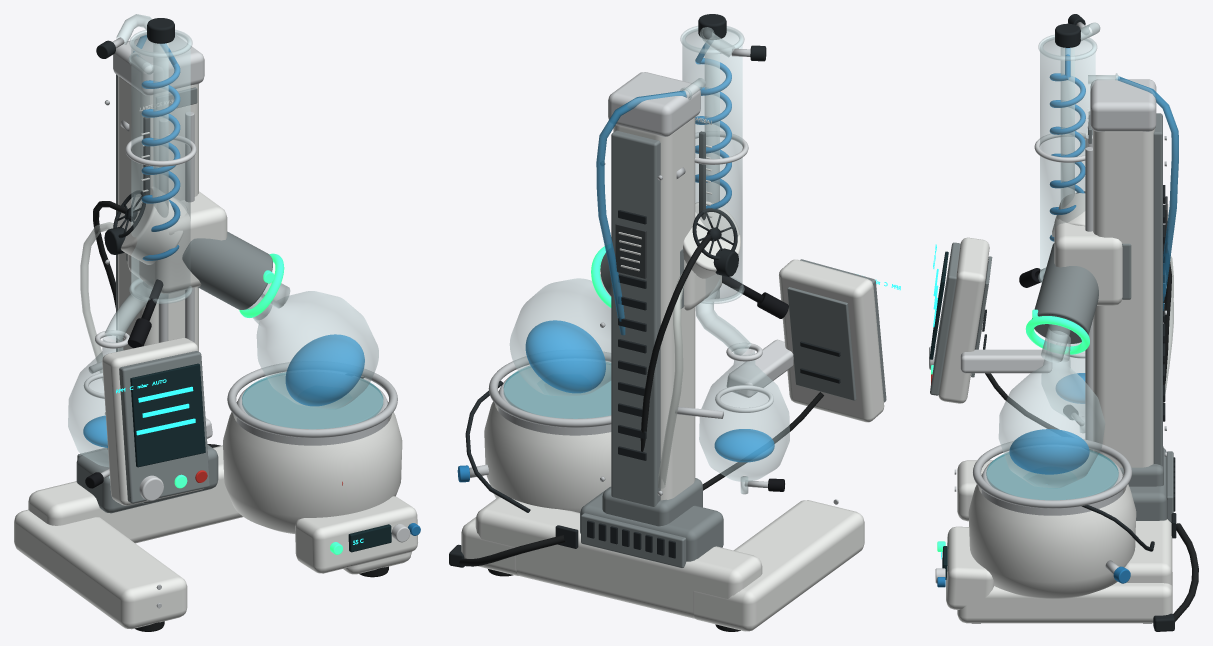
The model's file is rotary-evaporator.glb.
3 renders of one model, left to right at view 1: azimuth 30°, elevation 25°; view 2: azimuth 150°, elevation 25°; view 3: azimuth 270°, elevation 25°, orthographic. The views are drawn at different scales.
Visible parts, largest first — view 1: RotaryEvaporator__Powder_coated_warm_white, RotaryEvaporator__Borosilicate_glass, RotaryEvaporator__Powder_coated_shadow_gray, RotaryEvaporator__Brushed_stainless_steel, RotaryEvaporator__Controller_glass_display, RotaryEvaporator__Satin_anodized_aluminum, RotaryEvaporator__Reference_blue_solvent, RotaryEvaporator__Ground_glass_joint, RotaryEvaporator__Bath_water, RotaryEvaporator__LabSpace_blue_control_accent, RotaryEvaporator__Soft_touch_black_polymer, RotaryEvaporator__Clear_silicone_hose (+4 smaller); view 2: RotaryEvaporator__Powder_coated_warm_white, RotaryEvaporator__Borosilicate_glass, RotaryEvaporator__Powder_coated_shadow_gray, RotaryEvaporator__Soft_touch_black_polymer, RotaryEvaporator__Satin_anodized_aluminum, RotaryEvaporator__Brushed_stainless_steel, RotaryEvaporator__Reference_blue_solvent, RotaryEvaporator__Ground_glass_joint, RotaryEvaporator__Bath_water, RotaryEvaporator__Black_EPDM_rubber, RotaryEvaporator__Translucent_coolant_hose, RotaryEvaporator__LabSpace_blue_control_accent (+3 smaller); view 3: RotaryEvaporator__Powder_coated_warm_white, RotaryEvaporator__Borosilicate_glass, RotaryEvaporator__Powder_coated_shadow_gray, RotaryEvaporator__Brushed_stainless_steel, RotaryEvaporator__Satin_anodized_aluminum, RotaryEvaporator__Bath_water, RotaryEvaporator__Reference_blue_solvent, RotaryEvaporator__Ground_glass_joint, RotaryEvaporator__Soft_touch_black_polymer, RotaryEvaporator__LabSpace_blue_control_accent, RotaryEvaporator__Black_EPDM_rubber, RotaryEvaporator__Translucent_coolant_hose (+4 smaller).
Part boxes in pixels (left/top/right/bottom): RotaryEvaporator__Powder_coated_warm_white: left=14, top=76, right=417, bottom=629; RotaryEvaporator__Borosilicate_glass: left=68, top=29, right=378, bottom=466; RotaryEvaporator__Powder_coated_shadow_gray: left=76, top=74, right=272, bottom=513; RotaryEvaporator__Brushed_stainless_steel: left=88, top=37, right=397, bottom=608; RotaryEvaporator__Controller_glass_display: left=130, top=363, right=391, bottom=552; RotaryEvaporator__Satin_anodized_aluminum: left=83, top=34, right=410, bottom=542; RotaryEvaporator__Reference_blue_solvent: left=83, top=334, right=364, bottom=447; RotaryEvaporator__Ground_glass_joint: left=104, top=14, right=290, bottom=478; RotaryEvaporator__Bath_water: left=242, top=372, right=383, bottom=428; RotaryEvaporator__LabSpace_blue_control_accent: left=141, top=43, right=420, bottom=535; RotaryEvaporator__Soft_touch_black_polymer: left=96, top=18, right=364, bottom=378; RotaryEvaporator__Clear_silicone_hose: left=80, top=222, right=113, bottom=382; RotaryEvaporator__Powder_coated_warm_white: left=461, top=117, right=884, bottom=631; RotaryEvaporator__Borosilicate_glass: left=509, top=26, right=789, bottom=481; RotaryEvaporator__Powder_coated_shadow_gray: left=580, top=130, right=886, bottom=567; RotaryEvaporator__Soft_touch_black_polymer: left=449, top=14, right=840, bottom=567; RotaryEvaporator__Satin_anodized_aluminum: left=608, top=72, right=793, bottom=412; RotaryEvaporator__Brushed_stainless_steel: left=469, top=48, right=838, bottom=504; RotaryEvaporator__Reference_blue_solvent: left=525, top=320, right=774, bottom=462; RotaryEvaporator__Ground_glass_joint: left=600, top=27, right=751, bottom=494; RotaryEvaporator__Bath_water: left=503, top=362, right=610, bottom=418; RotaryEvaporator__Black_EPDM_rubber: left=459, top=233, right=823, bottom=631; RotaryEvaporator__Translucent_coolant_hose: left=596, top=90, right=686, bottom=335; RotaryEvaporator__LabSpace_blue_control_accent: left=457, top=43, right=731, bottom=482; RotaryEvaporator__Powder_coated_warm_white: left=938, top=108, right=1172, bottom=623; RotaryEvaporator__Borosilicate_glass: left=998, top=34, right=1117, bottom=488; RotaryEvaporator__Powder_coated_shadow_gray: left=930, top=111, right=1173, bottom=522; RotaryEvaporator__Brushed_stainless_steel: left=954, top=22, right=1166, bottom=574; RotaryEvaporator__Satin_anodized_aluminum: left=929, top=79, right=1156, bottom=583; RotaryEvaporator__Bath_water: left=986, top=450, right=1118, bottom=499; RotaryEvaporator__Reference_blue_solvent: left=1009, top=373, right=1089, bottom=474; RotaryEvaporator__Ground_glass_joint: left=1041, top=22, right=1118, bottom=432; RotaryEvaporator__Soft_touch_black_polymer: left=982, top=14, right=1176, bottom=631; RotaryEvaporator__LabSpace_blue_control_accent: left=937, top=47, right=1130, bottom=587; RotaryEvaporator__Black_EPDM_rubber: left=972, top=243, right=1198, bottom=623; RotaryEvaporator__Translucent_coolant_hose: left=1116, top=76, right=1178, bottom=310.
Size of the model in its own units: 0.6185 by 0.9649 by 0.4569.
